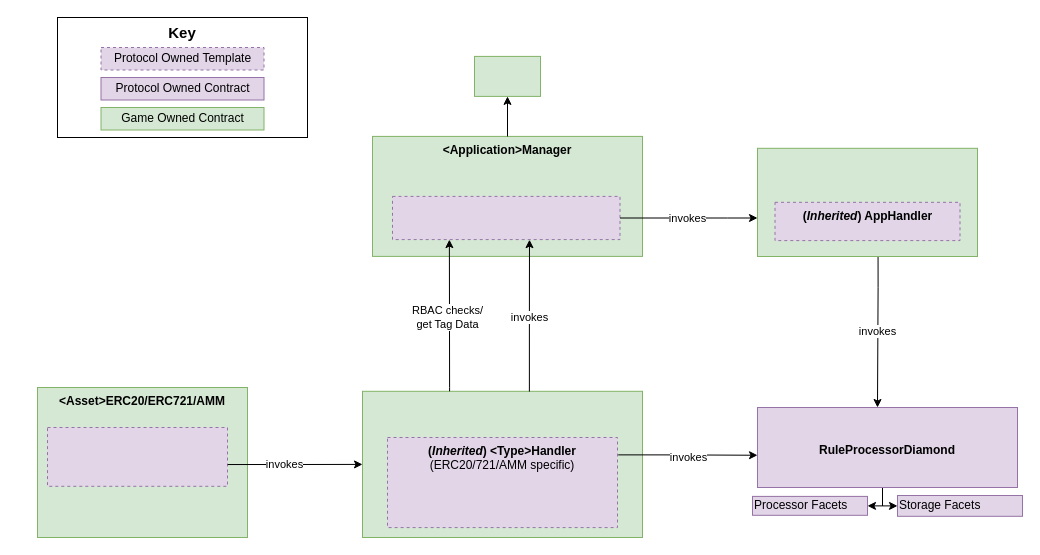
Some shapes in this 1040 by 555 pixel diagram are drawn without their labels. Each missing label, with the box of its shape:
( Inherited ) AppManager: (392, 195, 620, 240)
( Inherited ) Protocol<Type> (ERC20/721/AMM specific): (46, 426, 228, 486)
<Application>Handler (Upgradeable API layer): (756, 147, 978, 256)
<Asset>Handler (ERC20/721/AMM specific): (362, 390, 642, 538)
Data Contracts: (474, 55, 540, 96)
